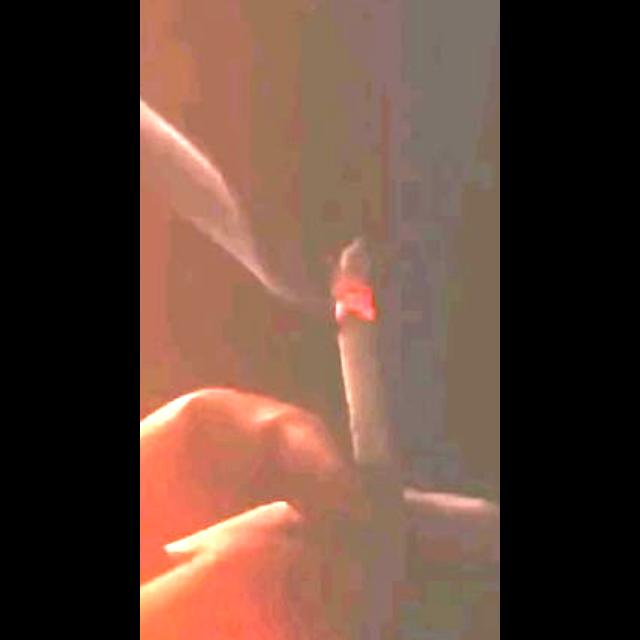fire: (331, 238, 376, 322)
